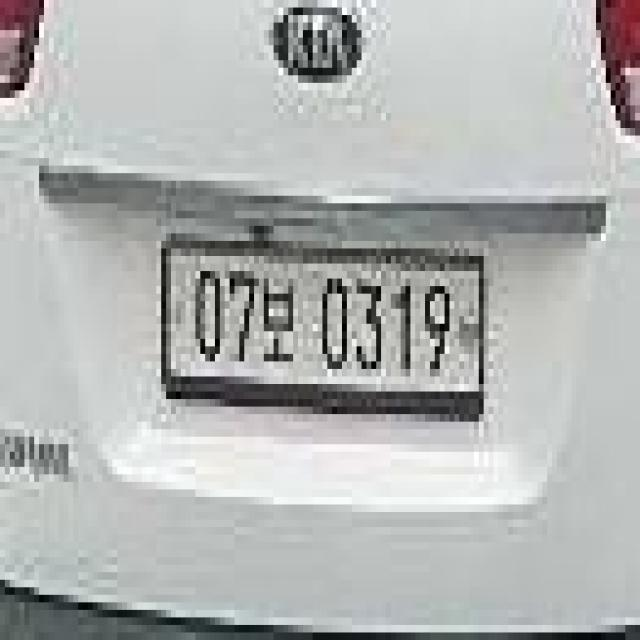illegal_plate: (158, 232, 492, 432)
